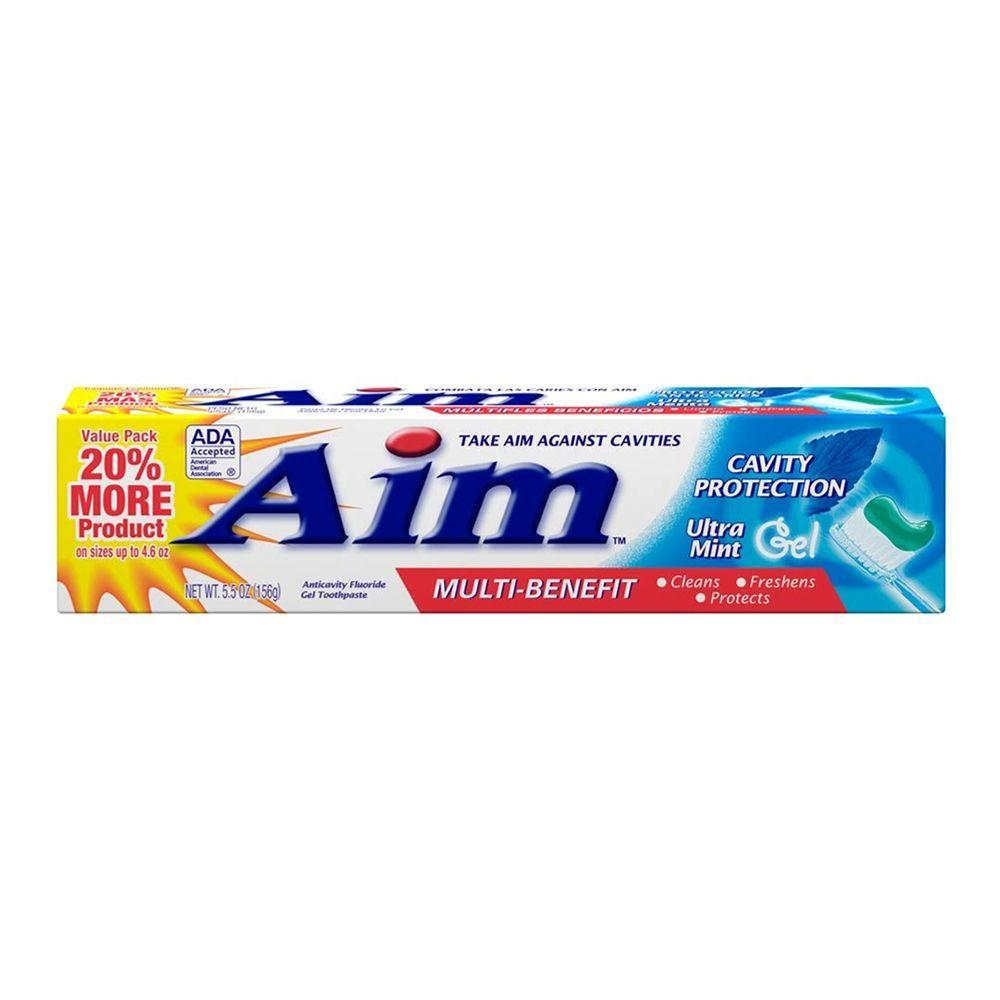toothpaste: (51, 374, 954, 609)
